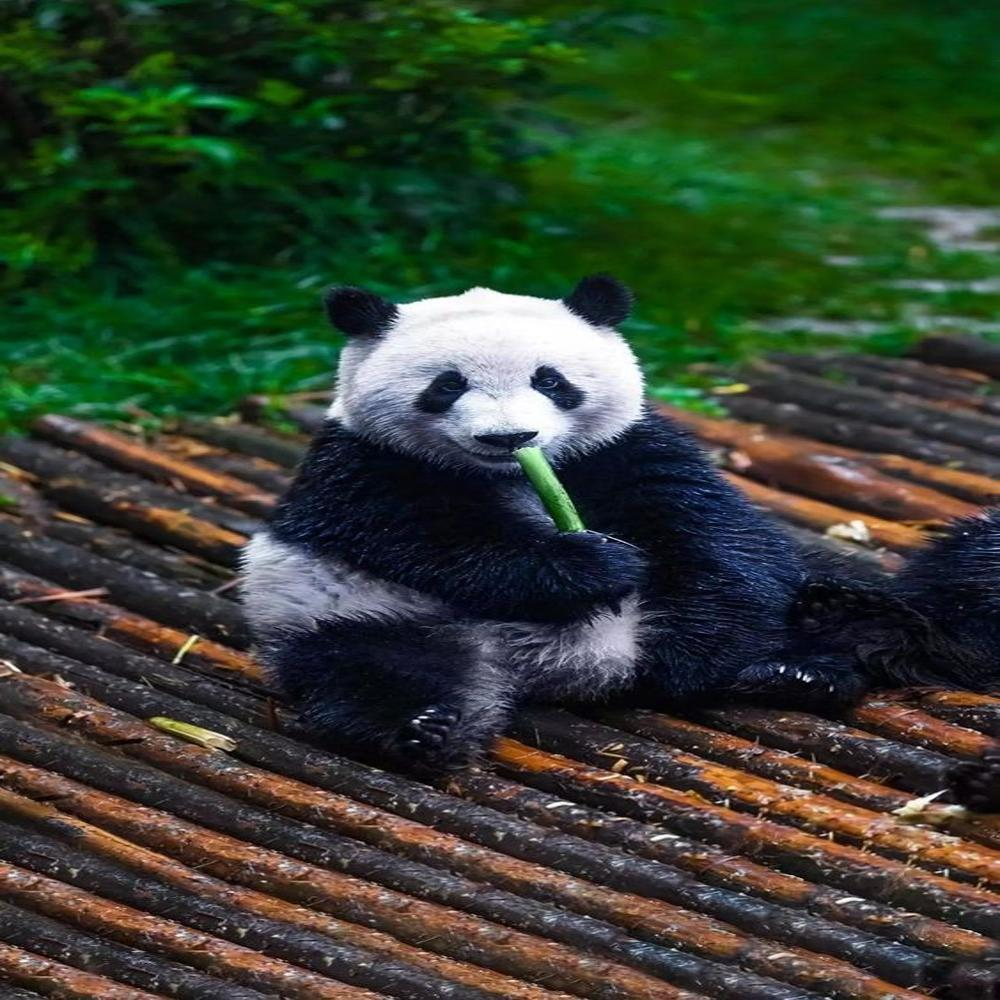panda: (234, 282, 899, 765)
